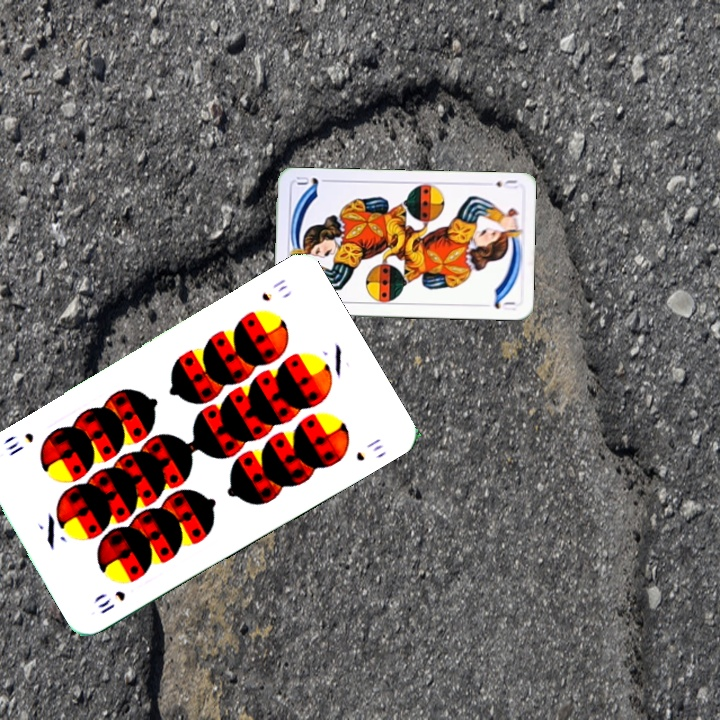S10: (94, 586, 128, 617), (257, 274, 291, 304)
SU: (492, 176, 520, 190)
